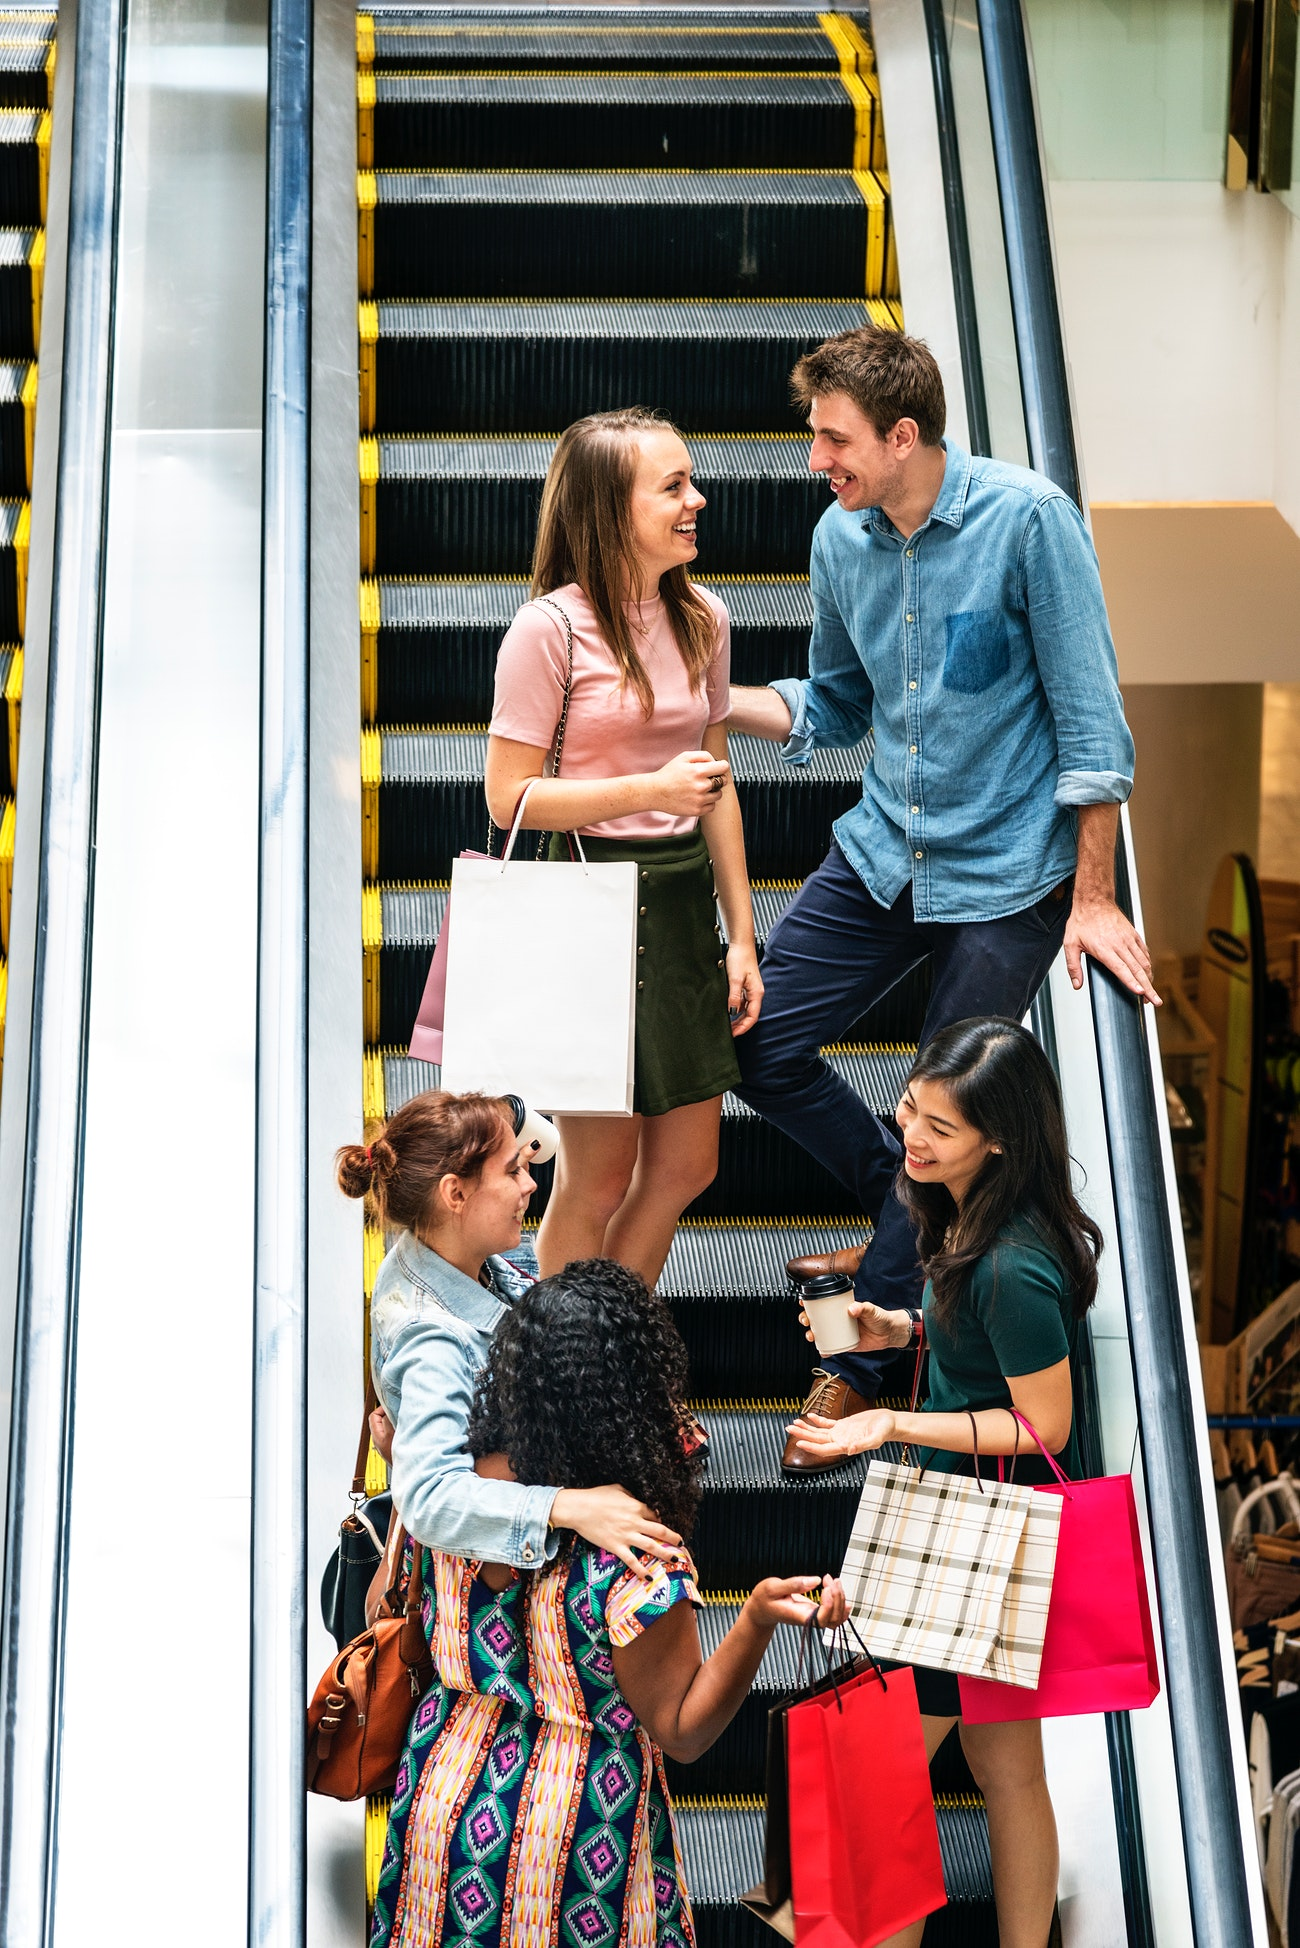Person: (756, 322, 1159, 1014), (440, 1268, 847, 1948), (448, 410, 786, 1102), (779, 1033, 1098, 1464), (332, 1099, 548, 1549)
